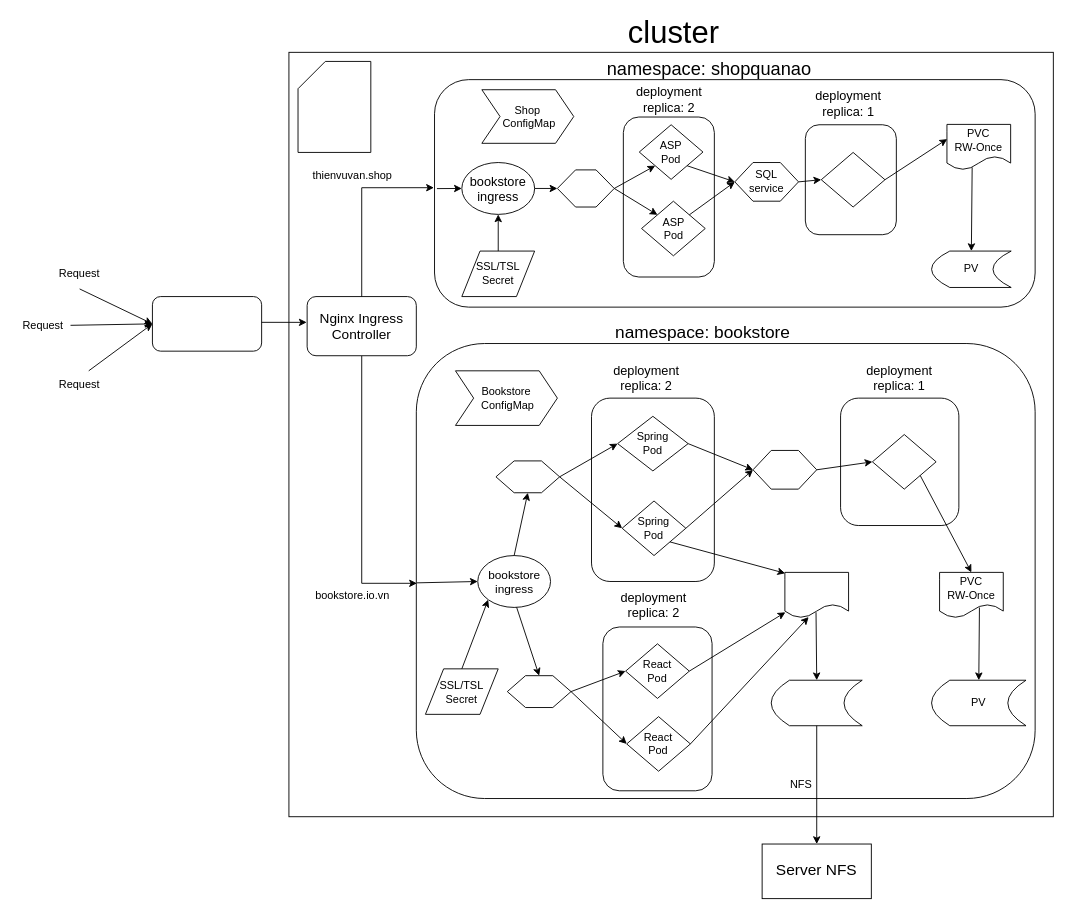
Image size: 1069x915. Some labels were removed from this diagram. Here are the shapes that lost their labels. From the top down, the centre of each, then its label:
At point (334, 106): "3 nodes 1 master 2 workers".
At point (585, 188): "ASP service".
At point (852, 179): "SQL Pod".
At point (207, 323): "DigitalOcean Load Balancer".
At point (527, 476): "spring service".
At point (784, 469): "mysql service".
At point (904, 461): "Mysql Pod".
At point (816, 594): "PVC RW-Many".
At point (538, 691): "react service".
At point (816, 702): "PVC NFS RW-many".
